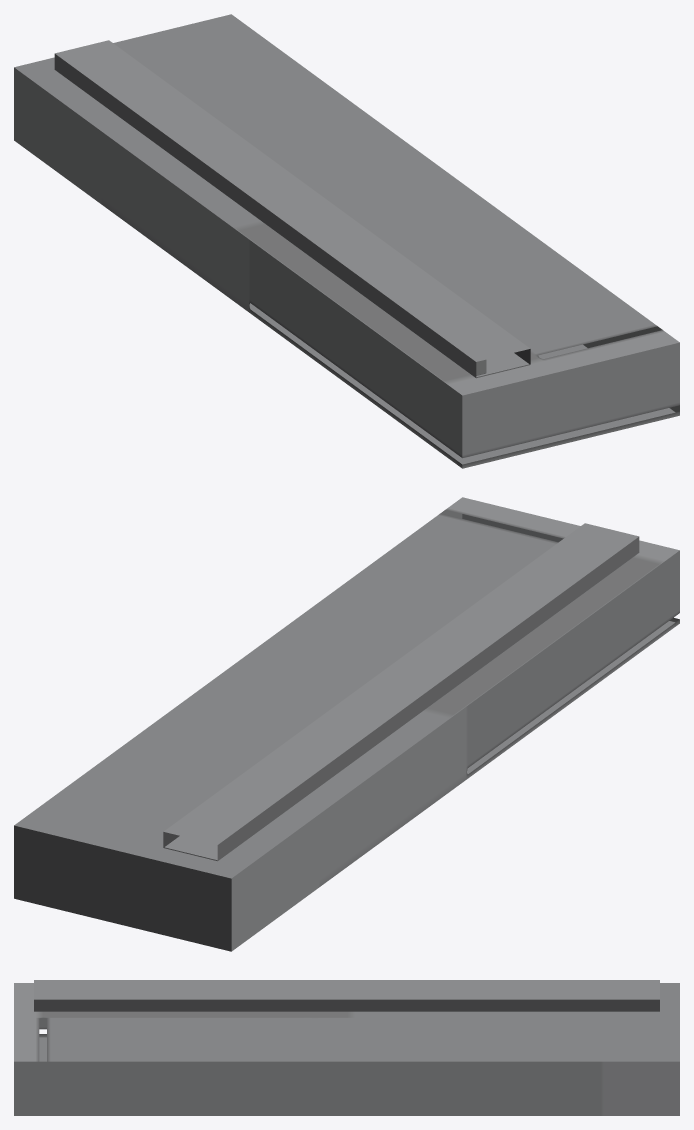
3 views of the same model, one above another, from view 1: azimuth 30°, elevation 25°; view 2: azimuth 150°, elevation 25°; view 3: azimuth 270°, elevation 25° (orthographic). The views are drawn at different scales.
Size of the model in its own units: 0.1288 by 0.0511 by 0.46.
